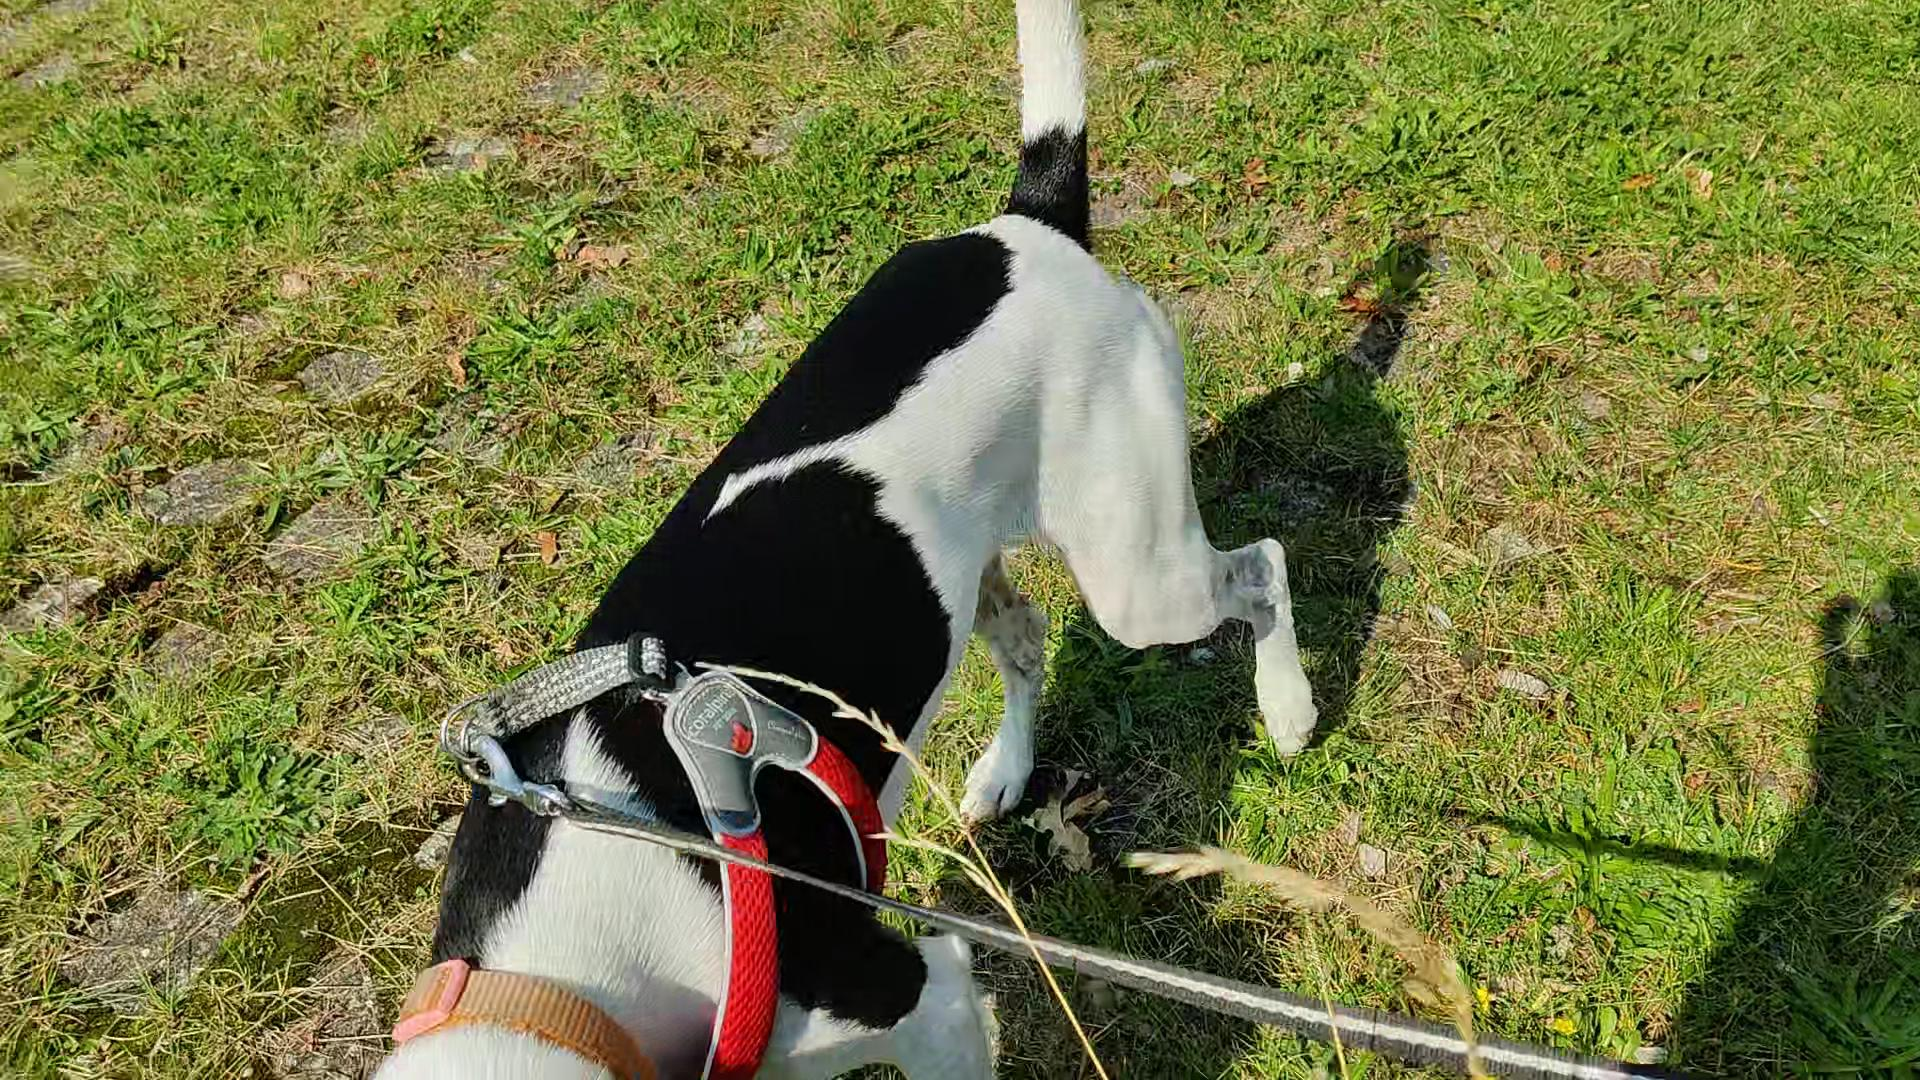Dog: (371, 0, 1323, 1079)
